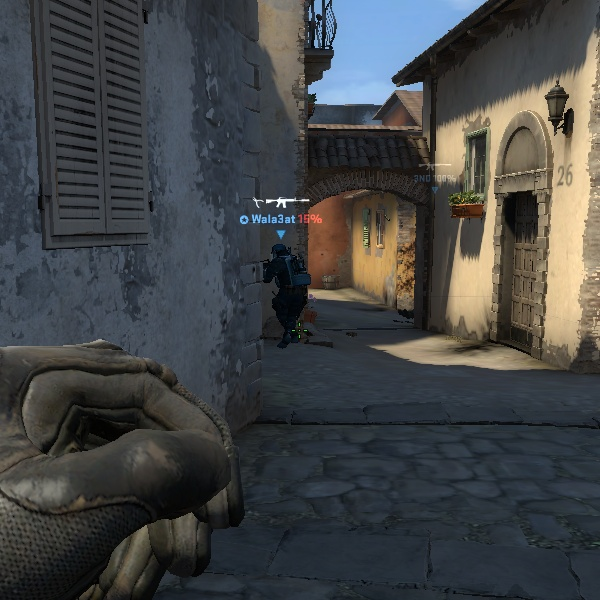ct_body: (255, 234, 317, 345)
